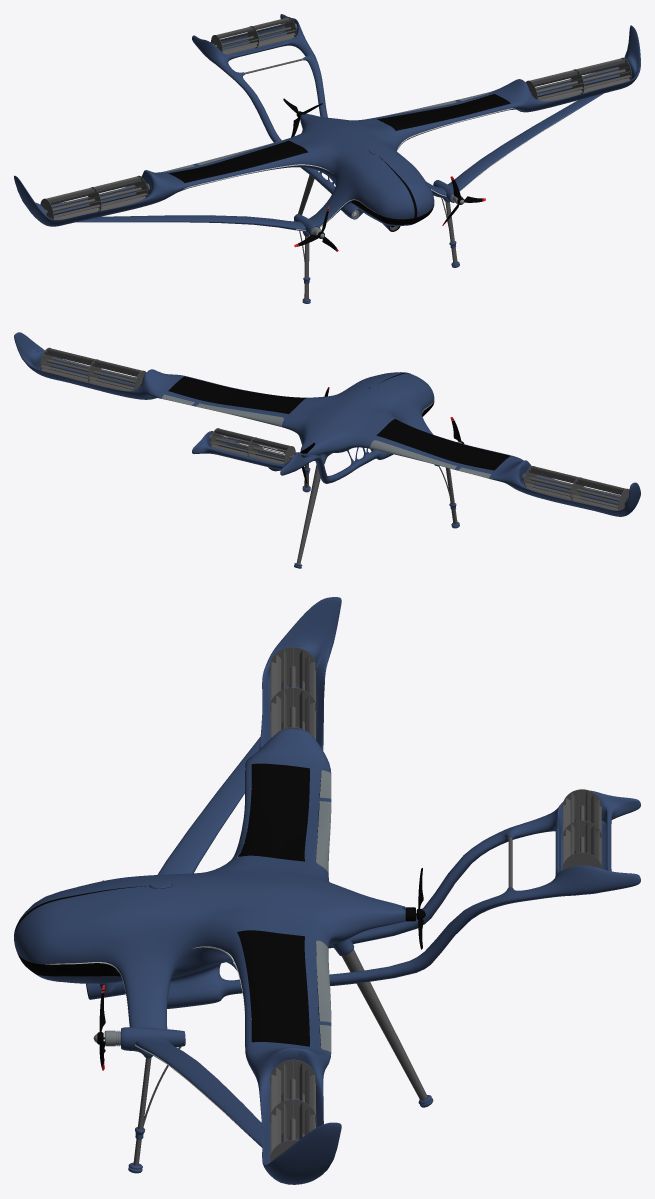
The picture shows the model from 3 angles, top to bottom: view 1: azimuth 30°, elevation 25°; view 2: azimuth 150°, elevation 25°; view 3: azimuth 270°, elevation 25°; orthographic projection. The views are drawn at different scales.
Visible parts, largest first — view 1: 默认值(6DB354DD-52DA-45CA-9838-D6F7C37E8341), 太阳能板(C8C5F818-9740-46CD-A73C-C7A284C2A769), 太阳能板(B9E0C4BD-6549-463A-97F6-8E7DCF85A6F2), 喷砼(57B024EA-BC83-4E38-B2A0-6D61FC464516), 前玻璃(360E46D7-C128-43BB-915A-17A3D0DB4C34); view 2: 默认值(6DB354DD-52DA-45CA-9838-D6F7C37E8341), 太阳能板(C8C5F818-9740-46CD-A73C-C7A284C2A769), 太阳能板(B9E0C4BD-6549-463A-97F6-8E7DCF85A6F2), 覆以锦衣(74A1AAD1-2BAE-440B-BF20-58DFD7E2DFE8), 覆以锦衣(3A278EF8-4B2E-4952-BC35-847050816E8F), 喷砼(266CC605-A3D0-4088-BA6F-B0852907802C), 滚翼(836C202E-7780-44D8-AE2B-037813721541), 滚翼(A8EE7821-87E9-457F-B802-F4E3DD5A7295), 滚翼(11B2AED8-42D6-4B97-8B95-C3013CDDF8F0), 滚翼(9544F9BC-379E-4322-8CCE-18EB6AA9308A); view 3: 默认值(6DB354DD-52DA-45CA-9838-D6F7C37E8341), 太阳能板(B9E0C4BD-6549-463A-97F6-8E7DCF85A6F2), 太阳能板(C8C5F818-9740-46CD-A73C-C7A284C2A769), 喷砼(266CC605-A3D0-4088-BA6F-B0852907802C), 前玻璃(360E46D7-C128-43BB-915A-17A3D0DB4C34), 喷砼(57B024EA-BC83-4E38-B2A0-6D61FC464516), 覆以锦衣(3A278EF8-4B2E-4952-BC35-847050816E8F), 覆以锦衣(74A1AAD1-2BAE-440B-BF20-58DFD7E2DFE8), 滚翼(D43D4B68-16D8-4A21-9880-A297E85D88A4), 滚翼(0A91F2B1-A90B-4174-BF21-D09A2C3736ED), 滚翼(3DB0CC49-82B7-4999-8B38-2E3591F339D9), 滚翼(E5459333-C1DE-42AE-A17F-D008CD02705A).
Boxes of the visible parts, bbox=[...] form: 默认值(6DB354DD-52DA-45CA-9838-D6F7C37E8341): bbox=[14, 14, 640, 231]; 太阳能板(C8C5F818-9740-46CD-A73C-C7A284C2A769): bbox=[169, 140, 307, 182]; 太阳能板(B9E0C4BD-6549-463A-97F6-8E7DCF85A6F2): bbox=[377, 94, 510, 130]; 喷砼(57B024EA-BC83-4E38-B2A0-6D61FC464516): bbox=[294, 180, 454, 236]; 前玻璃(360E46D7-C128-43BB-915A-17A3D0DB4C34): bbox=[351, 200, 434, 224]; 默认值(6DB354DD-52DA-45CA-9838-D6F7C37E8341): bbox=[14, 332, 640, 516]; 太阳能板(C8C5F818-9740-46CD-A73C-C7A284C2A769): bbox=[377, 419, 509, 470]; 太阳能板(B9E0C4BD-6549-463A-97F6-8E7DCF85A6F2): bbox=[169, 376, 306, 413]; 覆以锦衣(74A1AAD1-2BAE-440B-BF20-58DFD7E2DFE8): bbox=[370, 440, 456, 469]; 覆以锦衣(3A278EF8-4B2E-4952-BC35-847050816E8F): bbox=[196, 403, 283, 426]; 喷砼(266CC605-A3D0-4088-BA6F-B0852907802C): bbox=[296, 464, 320, 563]; 滚翼(836C202E-7780-44D8-AE2B-037813721541): bbox=[47, 349, 140, 374]; 滚翼(A8EE7821-87E9-457F-B802-F4E3DD5A7295): bbox=[531, 467, 623, 492]; 滚翼(11B2AED8-42D6-4B97-8B95-C3013CDDF8F0): bbox=[526, 486, 618, 510]; 滚翼(9544F9BC-379E-4322-8CCE-18EB6AA9308A): bbox=[42, 368, 133, 390]; 默认值(6DB354DD-52DA-45CA-9838-D6F7C37E8341): bbox=[14, 597, 640, 1184]; 太阳能板(B9E0C4BD-6549-463A-97F6-8E7DCF85A6F2): bbox=[238, 930, 309, 1046]; 太阳能板(C8C5F818-9740-46CD-A73C-C7A284C2A769): bbox=[238, 764, 309, 861]; 喷砼(266CC605-A3D0-4088-BA6F-B0852907802C): bbox=[342, 949, 427, 1100]; 前玻璃(360E46D7-C128-43BB-915A-17A3D0DB4C34): bbox=[17, 953, 120, 976]; 喷砼(57B024EA-BC83-4E38-B2A0-6D61FC464516): bbox=[121, 1027, 182, 1058]; 覆以锦衣(3A278EF8-4B2E-4952-BC35-847050816E8F): bbox=[316, 940, 331, 1022]; 覆以锦衣(74A1AAD1-2BAE-440B-BF20-58DFD7E2DFE8): bbox=[316, 801, 331, 873]; 滚翼(D43D4B68-16D8-4A21-9880-A297E85D88A4): bbox=[269, 1099, 316, 1138]; 滚翼(0A91F2B1-A90B-4174-BF21-D09A2C3736ED): bbox=[269, 687, 316, 726]; 滚翼(3DB0CC49-82B7-4999-8B38-2E3591F339D9): bbox=[269, 647, 316, 686]; 滚翼(E5459333-C1DE-42AE-A17F-D008CD02705A): bbox=[269, 1059, 316, 1098].
Size of the model in its own units: 0.0893 by 0.0228 by 0.0449.
446 materials, 241 textured.
